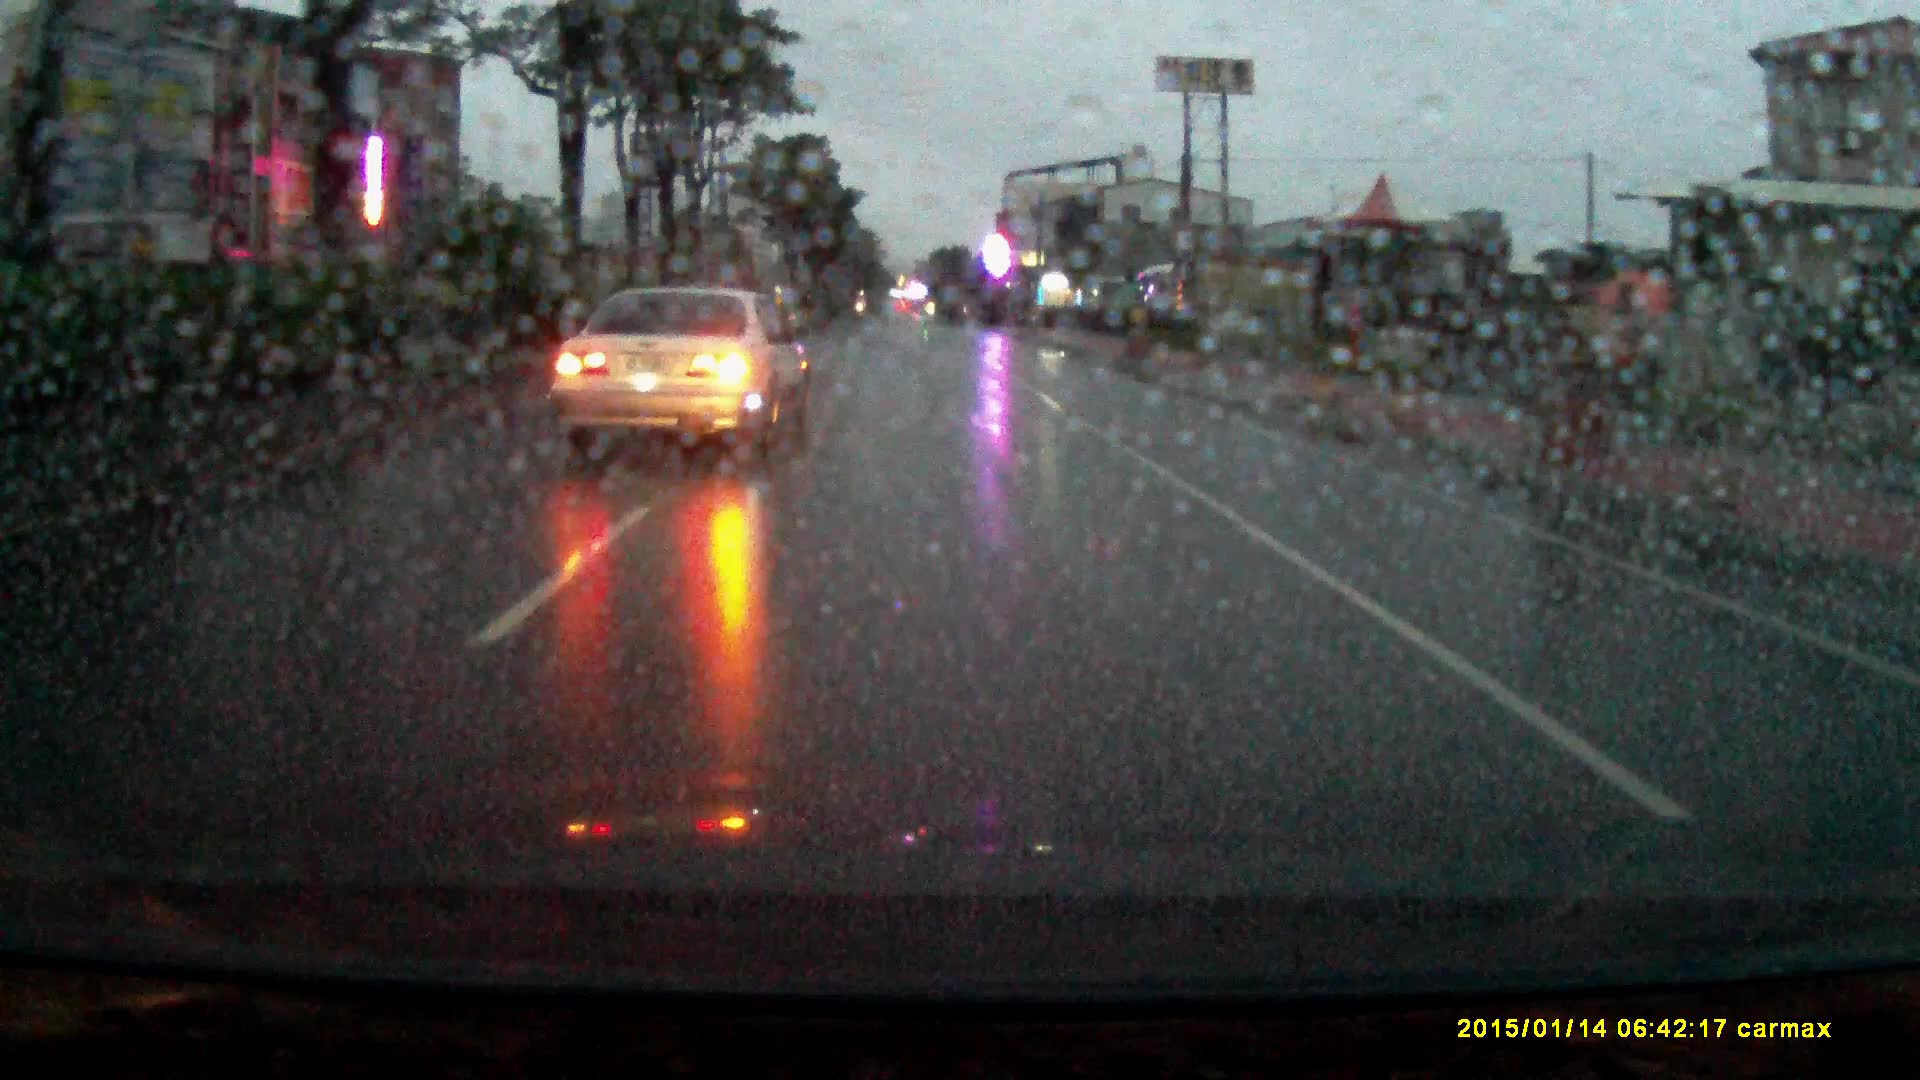pedestrian: (1583, 265, 1682, 483)
vehicle: (544, 286, 816, 466)
